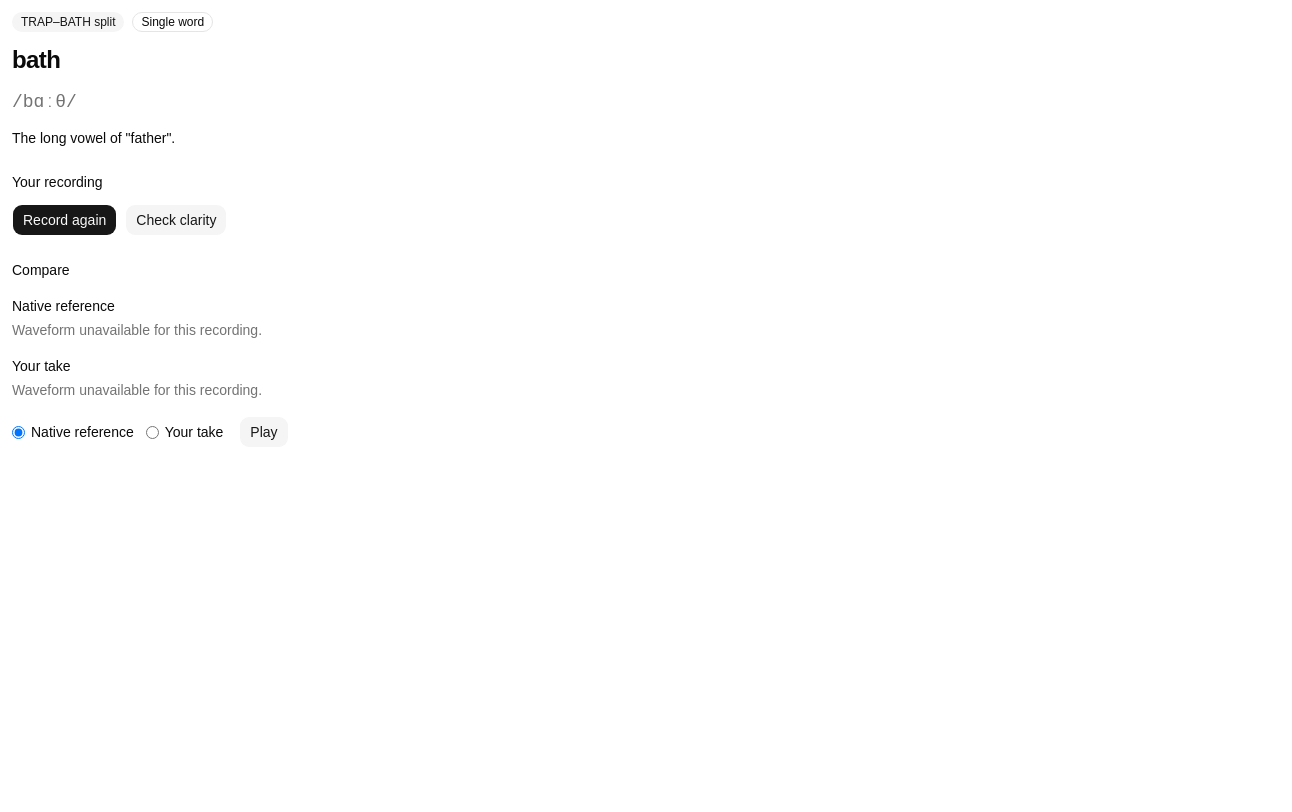
Test case: PracticePanel › warns when the score was kept but the audio could not be stored
Click the button "Check clarity" at (176, 220), box [125,204,227,236]
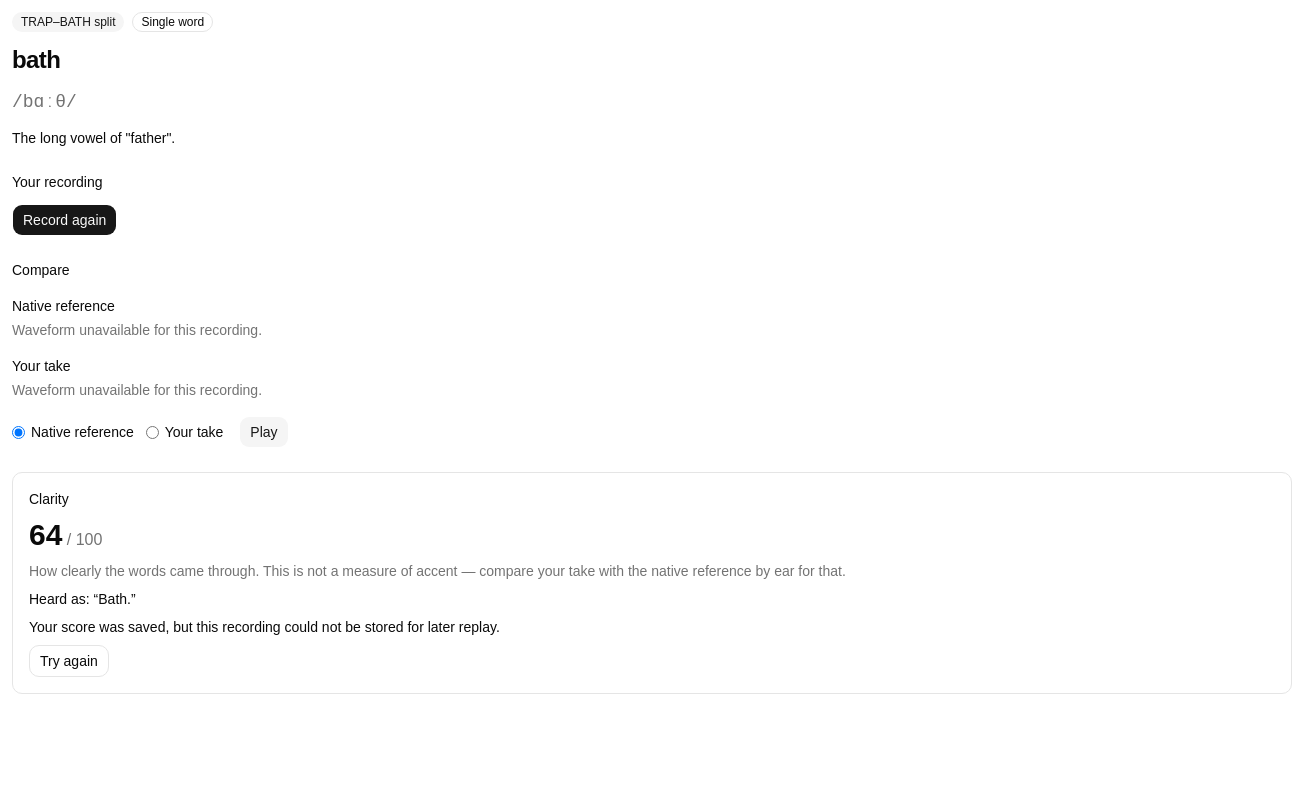
Result: the text "could not be stored for later replay" is shown at [29,619,500,635]
